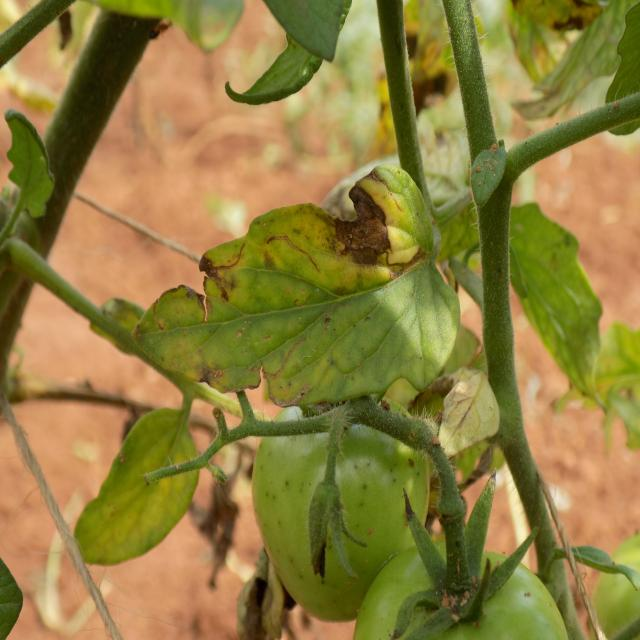tomato_early blight: (136, 166, 462, 399), (70, 401, 199, 564), (374, 0, 466, 165), (505, 0, 614, 109)
